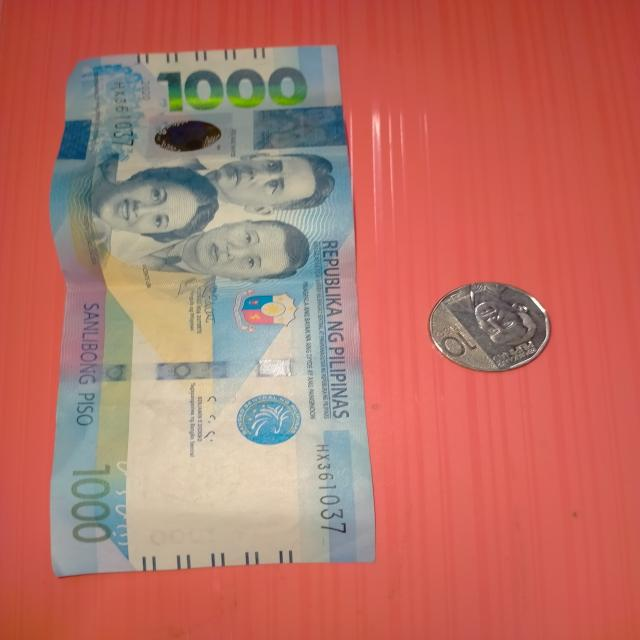concealed_value: (251, 104, 347, 150)
optically_variable_device: (145, 113, 234, 155)
security_thread: (57, 358, 363, 378)
see_through_mark: (106, 452, 144, 551)
value_watermark: (146, 526, 220, 546)
watermark: (136, 425, 323, 538)
